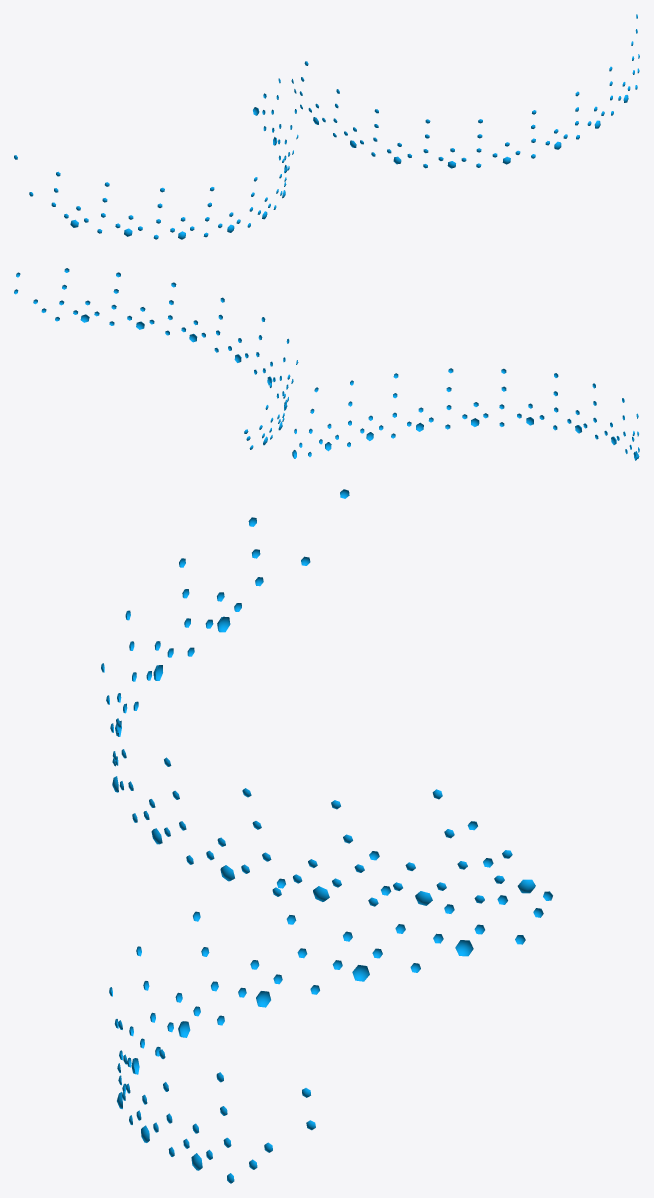
The model's file is crystals-front_curve.glb.
The picture shows the model from 3 angles, top to bottom: view 1: azimuth 30°, elevation 25°; view 2: azimuth 150°, elevation 25°; view 3: azimuth 270°, elevation 25°; orthographic projection. The views are drawn at different scales.
Visible parts, largest first — view 1: crystals-front_curve; view 2: crystals-front_curve; view 3: crystals-front_curve.
Boxes of the visible parts, box(x1,y1,x2,y2) form: crystals-front_curve: box(14, 14, 639, 239); crystals-front_curve: box(14, 268, 639, 460); crystals-front_curve: box(101, 489, 552, 1183).
Size of the model in its own units: 2.09 by 0.2705 by 0.6652.
